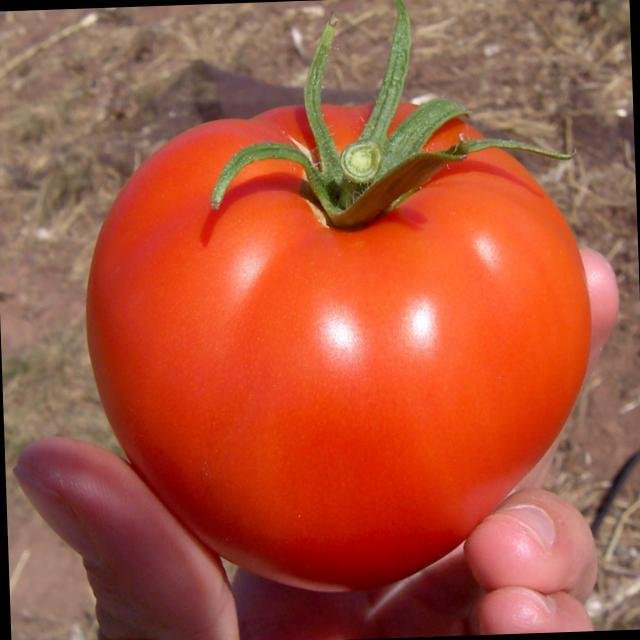TOMATO: (83, 81, 600, 598)
